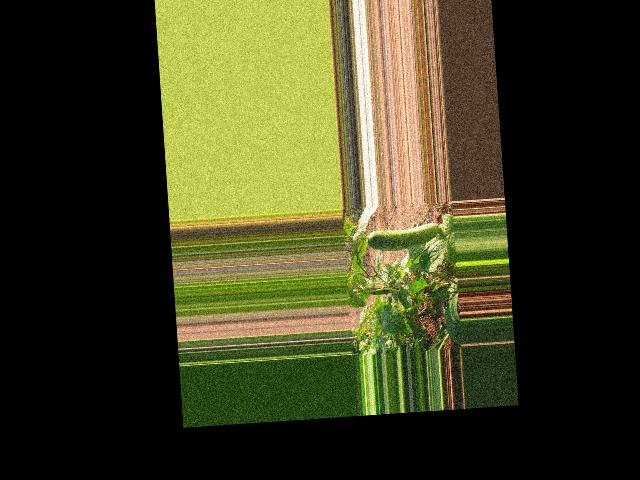cucumber: (367, 222, 441, 252)
